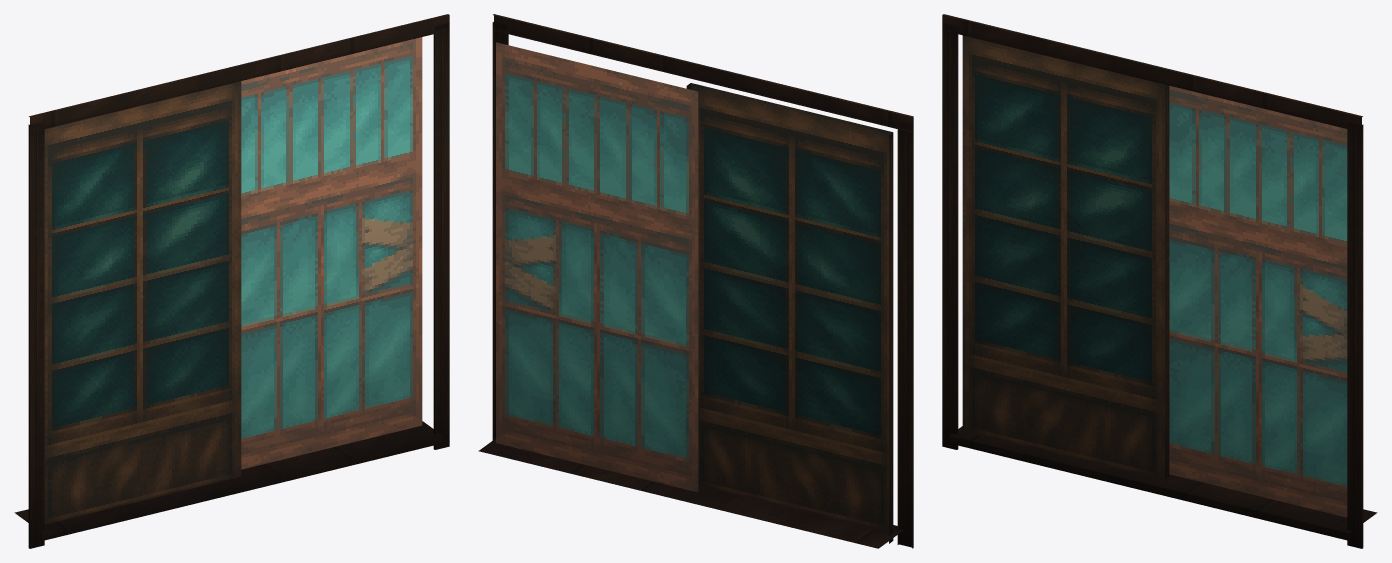
File: prop_sash-16-16-3.glb
The picture shows the model from 3 angles, left to right: view 1: azimuth 30°, elevation 25°; view 2: azimuth 150°, elevation 25°; view 3: azimuth 330°, elevation 25°; orthographic projection.
Visible parts, largest first — view 1: prop_sash-16-16-3; view 2: prop_sash-16-16-3; view 3: prop_sash-16-16-3.
Part boxes in pixels (x1=…): prop_sash-16-16-3: x1=14, y1=14, x2=449, y2=548; prop_sash-16-16-3: x1=478, y1=14, x2=913, y2=548; prop_sash-16-16-3: x1=942, y1=14, x2=1377, y2=548.
Bounding box in the file's own units: 1.72 × 1.69 × 0.2.
3 materials, 3 textured.
